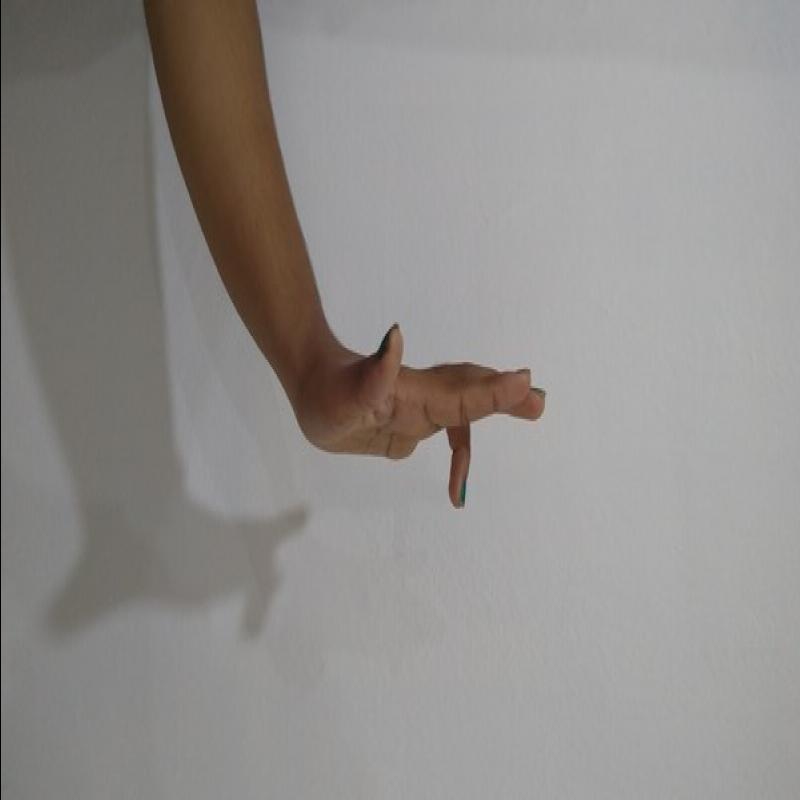Pathaaka: (286, 315, 559, 516)
